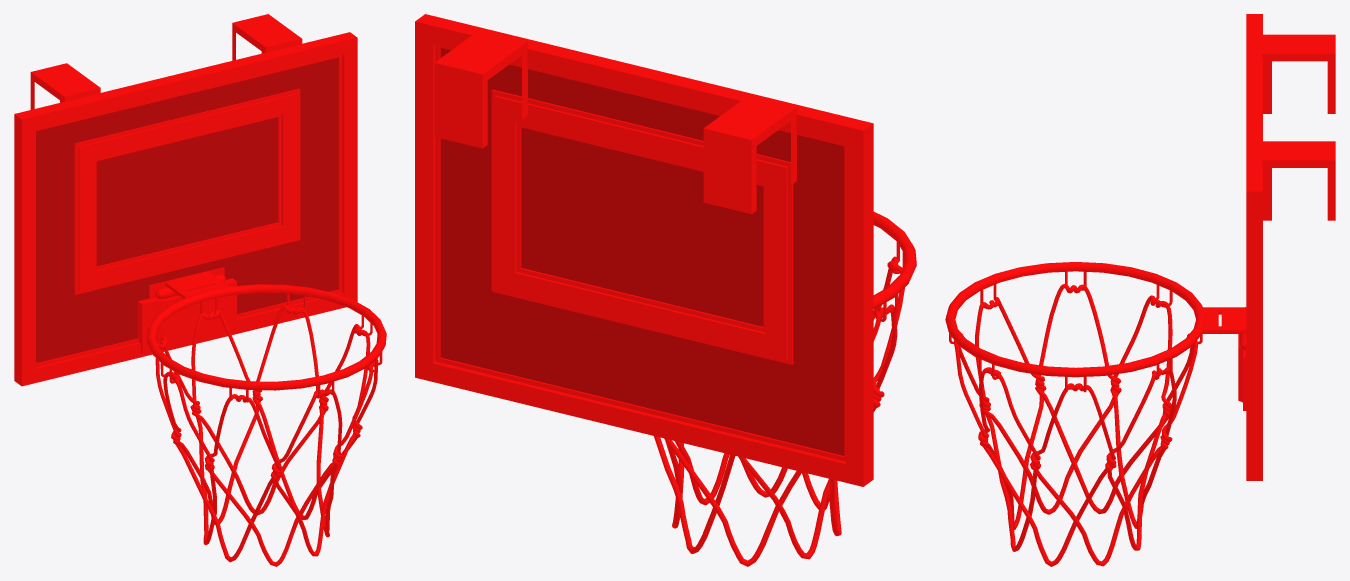
Rendered from SM_BasketBallHoop.glb.
3 renders of one model, left to right at view 1: azimuth 30°, elevation 25°; view 2: azimuth 150°, elevation 25°; view 3: azimuth 270°, elevation 25°, orthographic. The views are drawn at different scales.
Visible parts, largest first — view 1: SM_BasketBallHoop_LOD0; view 2: SM_BasketBallHoop_LOD0; view 3: SM_BasketBallHoop_LOD0.
Part boxes in pixels (x1,y1,x2,y2): SM_BasketBallHoop_LOD0: [14, 14, 386, 566]; SM_BasketBallHoop_LOD0: [415, 14, 916, 566]; SM_BasketBallHoop_LOD0: [945, 14, 1335, 566].
Bounding box in the file's own units: 0.4546 × 0.5301 × 0.4221.
Materials: 2 (1 with a texture image).
